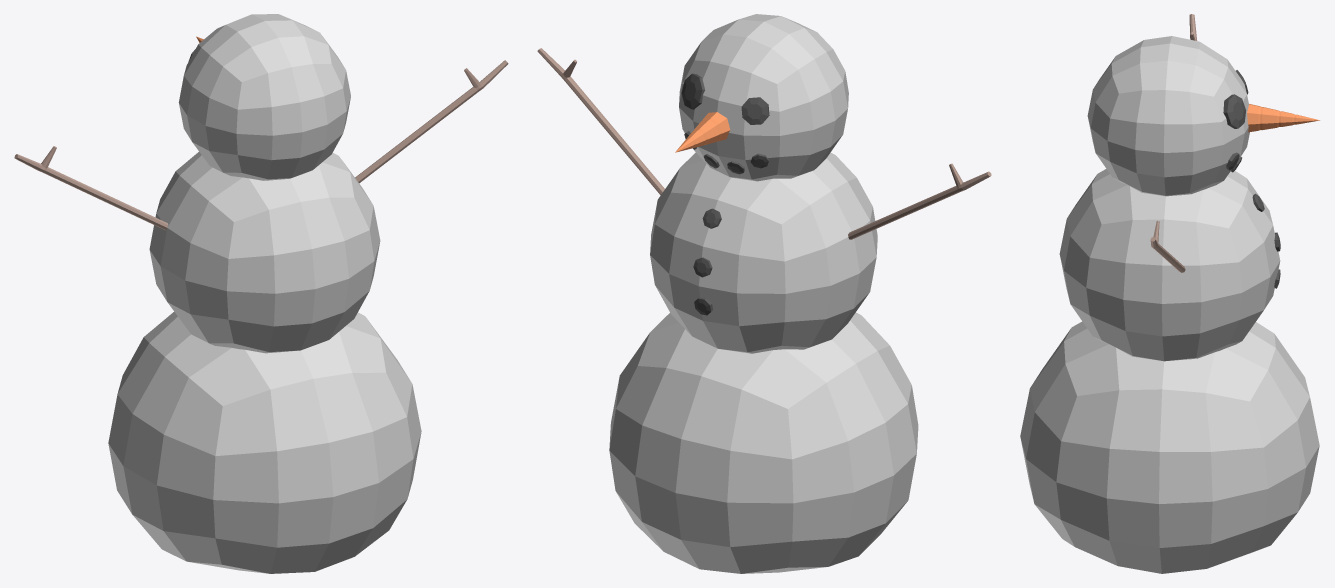
Rendered from SnowManRotated.glb.
3 renders of one model, left to right at view 1: azimuth 30°, elevation 25°; view 2: azimuth 150°, elevation 25°; view 3: azimuth 270°, elevation 25°, orthographic. The views are drawn at different scales.
Visible parts, largest first — view 1: Snowman_Roundcube; view 2: Snowman_Roundcube; view 3: Snowman_Roundcube.
Boxes of the visible parts, left/top/right/bottom form: Snowman_Roundcube: left=14, top=14, right=508, bottom=573; Snowman_Roundcube: left=537, top=14, right=991, bottom=573; Snowman_Roundcube: left=1020, top=14, right=1319, bottom=573.
Bounding box in the file's own units: 9.26 × 9.84 × 5.34.
